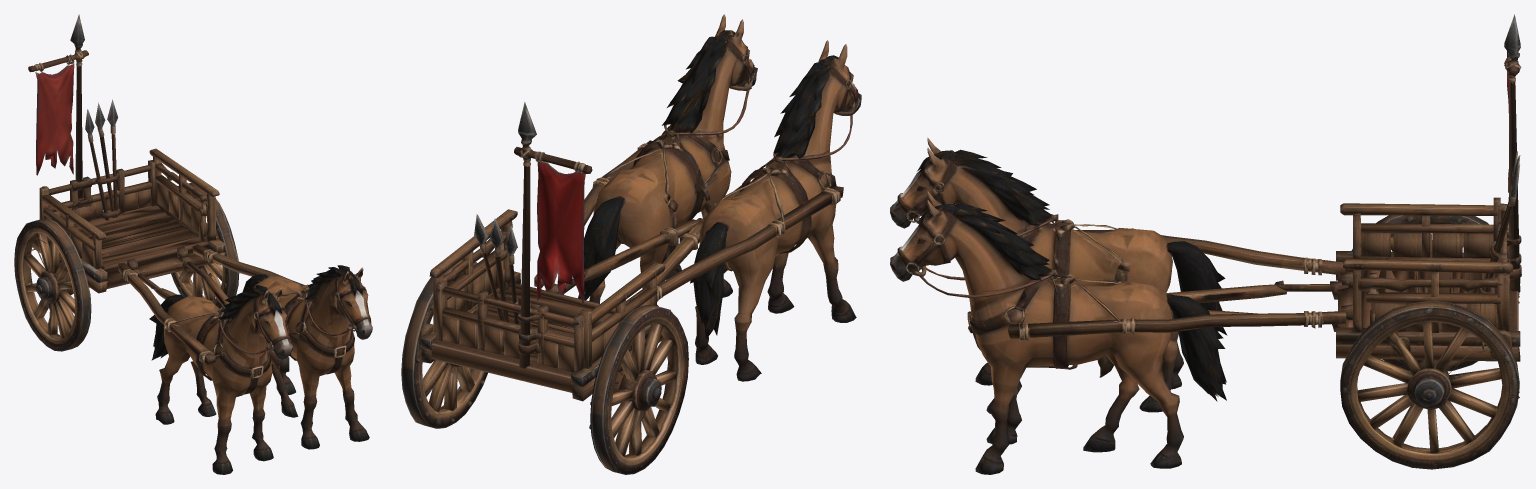
Rendered from chariot.glb.
3 renders of one model, left to right at view 1: azimuth 30°, elevation 25°; view 2: azimuth 150°, elevation 25°; view 3: azimuth 270°, elevation 25°, orthographic. The views are drawn at different scales.
Size of the model in its own units: 0.4106 by 0.6655 by 0.9507.
Materials: 1 (1 with a texture image).
